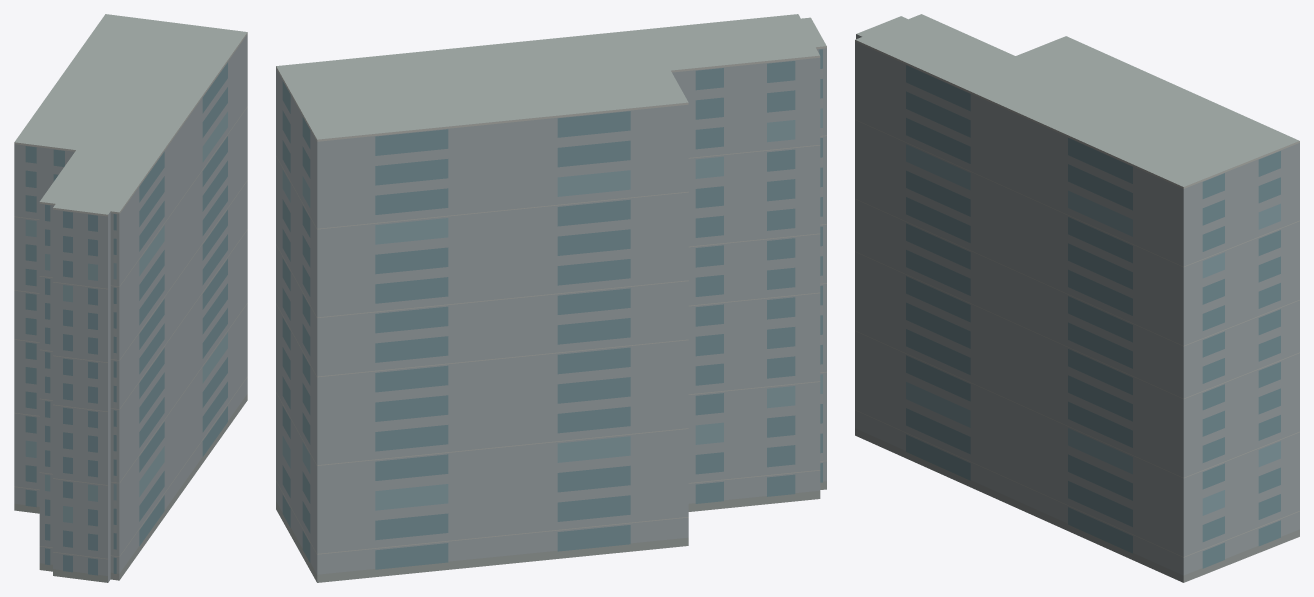
The model's file is residential-f89163d3-9a58-4a6f-b7a4-d24a055fc948.glb.
The picture shows the model from 3 angles, left to right: view 1: azimuth 30°, elevation 25°; view 2: azimuth 150°, elevation 25°; view 3: azimuth 270°, elevation 25°; orthographic projection. The views are drawn at different scales.
Visible parts, largest first — view 1: residential-f89163d3-9a58-4a6f-b7a4-d24a055fc948.tmp; view 2: residential-f89163d3-9a58-4a6f-b7a4-d24a055fc948.tmp; view 3: residential-f89163d3-9a58-4a6f-b7a4-d24a055fc948.tmp.
Part boxes in pixels (<box>): residential-f89163d3-9a58-4a6f-b7a4-d24a055fc948.tmp: <box>14,14,247,582</box>; residential-f89163d3-9a58-4a6f-b7a4-d24a055fc948.tmp: <box>276,14,826,582</box>; residential-f89163d3-9a58-4a6f-b7a4-d24a055fc948.tmp: <box>855,14,1299,582</box>.
Bounding box in the file's own units: 46.91 × 50 × 50.93.
